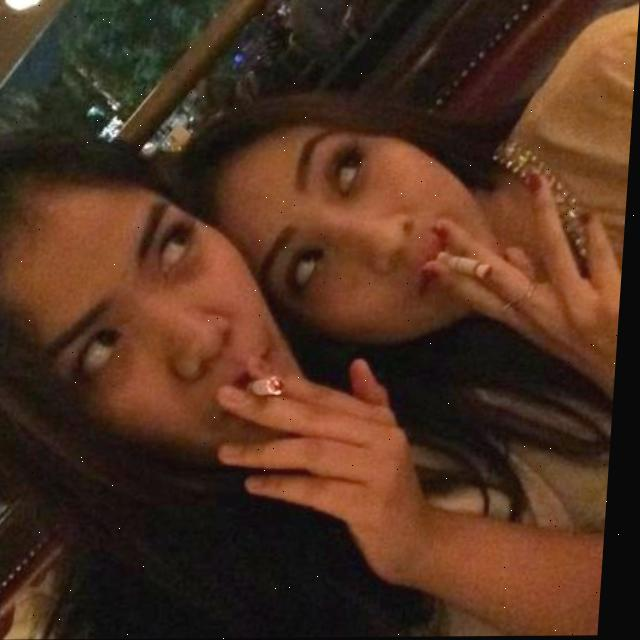cigarette: (438, 251, 498, 282), (251, 375, 291, 396)
